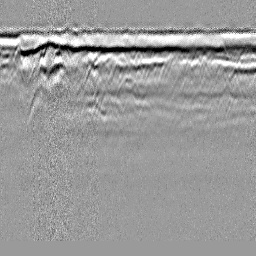cavity: (117, 70, 139, 98)
